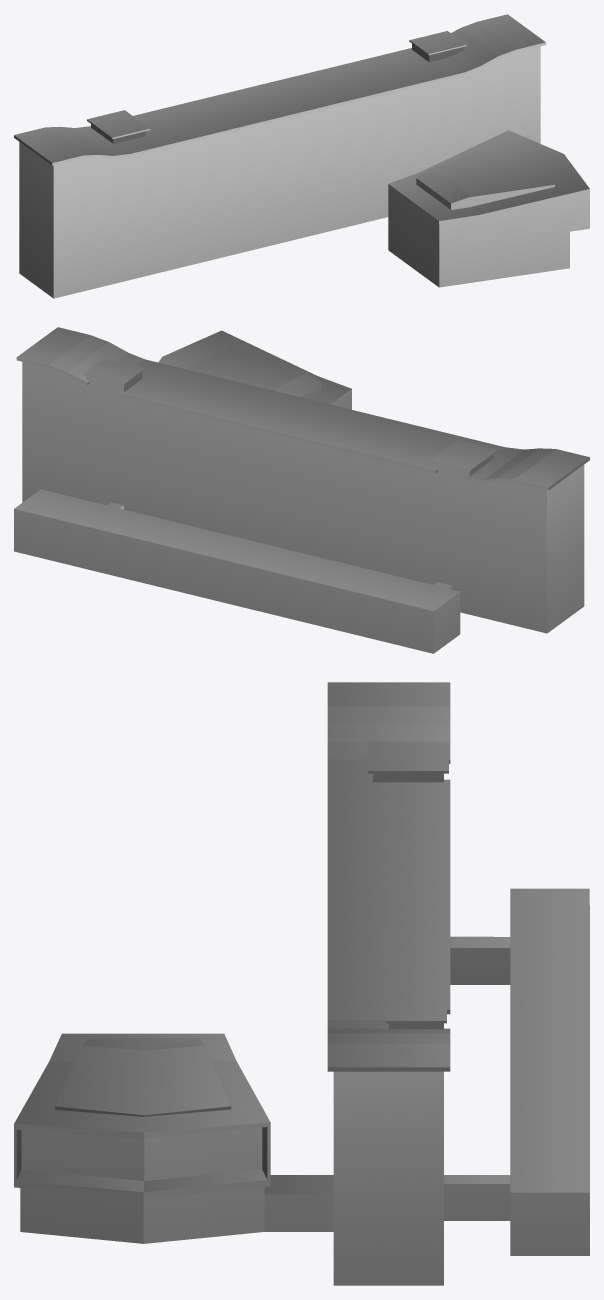
File: gauss1.7.dae
The picture shows the model from 3 angles, top to bottom: view 1: azimuth 30°, elevation 25°; view 2: azimuth 150°, elevation 25°; view 3: azimuth 270°, elevation 25°; orthographic projection. The views are drawn at different scales.
Parts seen in each view (by area): view 1: Rectangle0_06_-_Defau; view 2: Rectangle0_06_-_Defau; view 3: Rectangle0_06_-_Defau.
Boxes of the visible parts, x1,y1,x2,y2 form: Rectangle0_06_-_Defau: (14,14,589,298); Rectangle0_06_-_Defau: (14,327,589,653); Rectangle0_06_-_Defau: (14,682,589,1285).
Bounding box in the file's own units: 46.54 × 29.39 × 12.44.
1 material, 1 textured.
